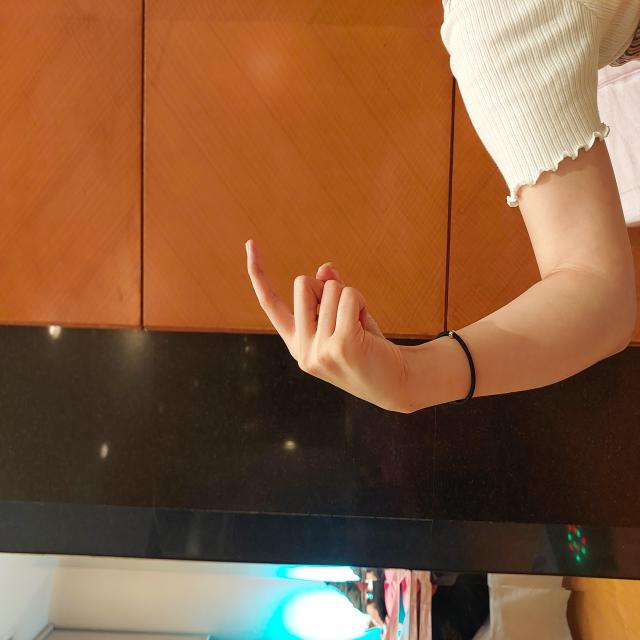X: (235, 243, 403, 412)
